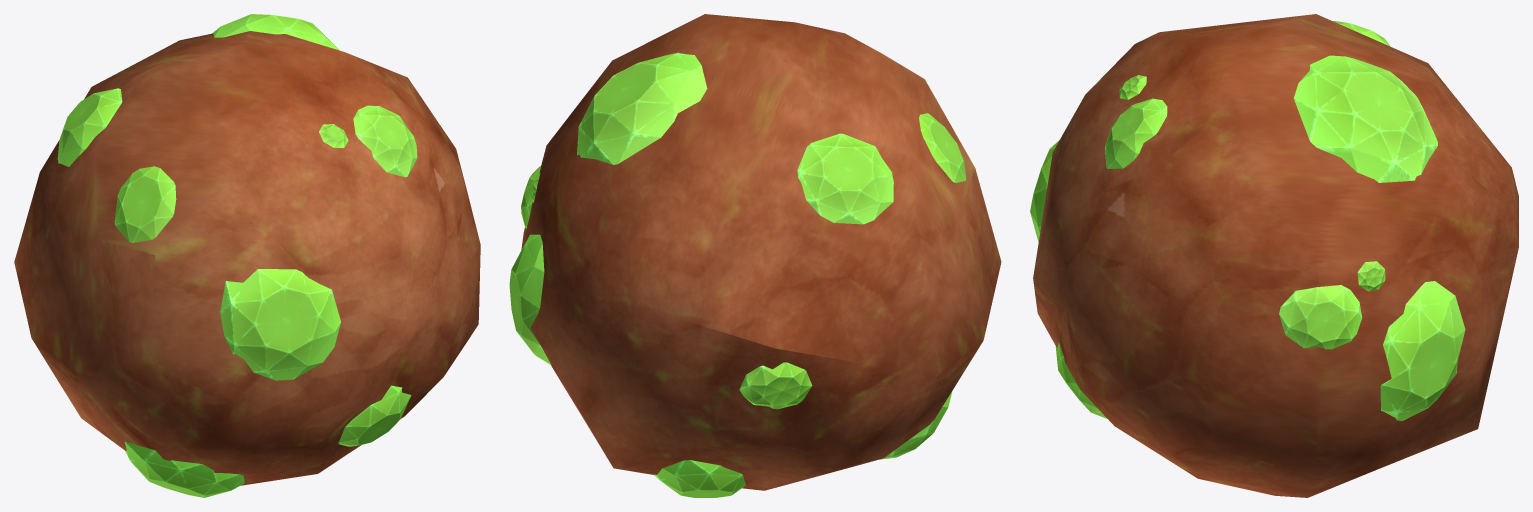
File: crystal_sphere_green.fbx
3 renders of one model, left to right at view 1: azimuth 30°, elevation 25°; view 2: azimuth 150°, elevation 25°; view 3: azimuth 270°, elevation 25°, orthographic. The views are drawn at different scales.
Visible parts, largest first — view 1: crystal_sphere_body_low, crystal_sphere_jewel_low; view 2: crystal_sphere_body_low, crystal_sphere_jewel_low; view 3: crystal_sphere_body_low, crystal_sphere_jewel_low.
Boxes of the visible parts, x1,y1,x2,y2 form: crystal_sphere_body_low: [14, 31, 480, 485]; crystal_sphere_jewel_low: [57, 14, 417, 497]; crystal_sphere_body_low: [521, 14, 1001, 490]; crystal_sphere_jewel_low: [509, 52, 966, 497]; crystal_sphere_body_low: [1033, 14, 1518, 497]; crystal_sphere_jewel_low: [1030, 21, 1465, 420].
Size of the model in its own units: 1.94 by 1.95 by 1.92.
